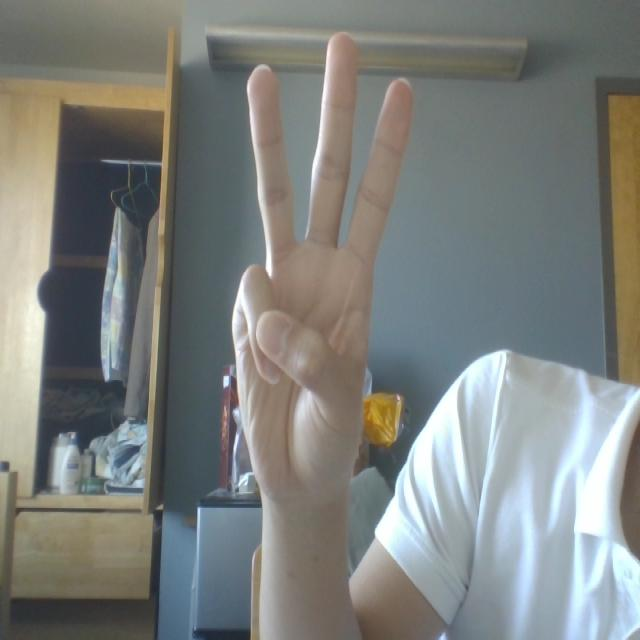W: (195, 4, 430, 534)
